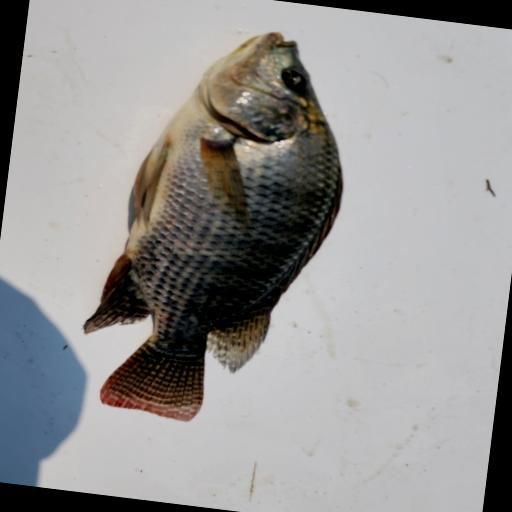Tilapia: (71, 12, 363, 441)
